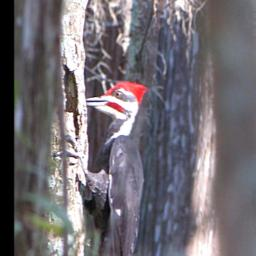Woodpecker: (53, 81, 150, 256)
